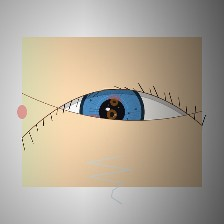foreign_body_visible: (71, 106, 116, 142)
